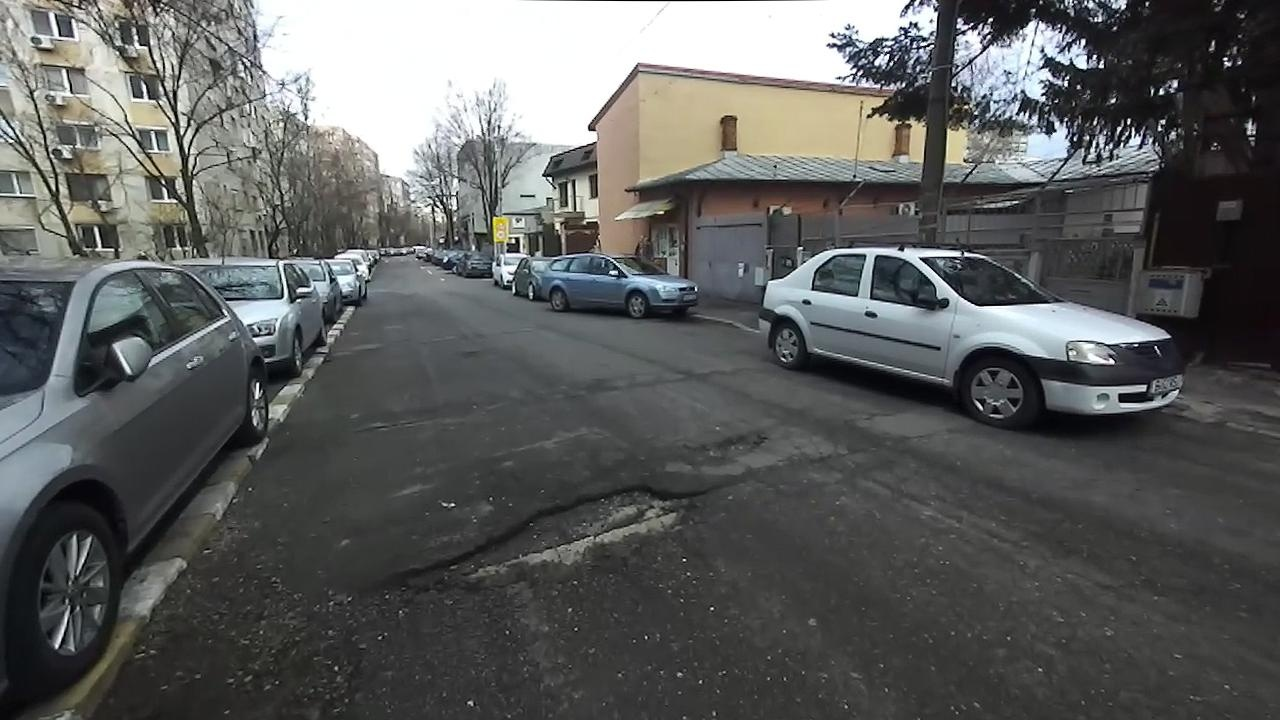pothole: (380, 479, 720, 600), (692, 422, 771, 463), (351, 412, 435, 436)
